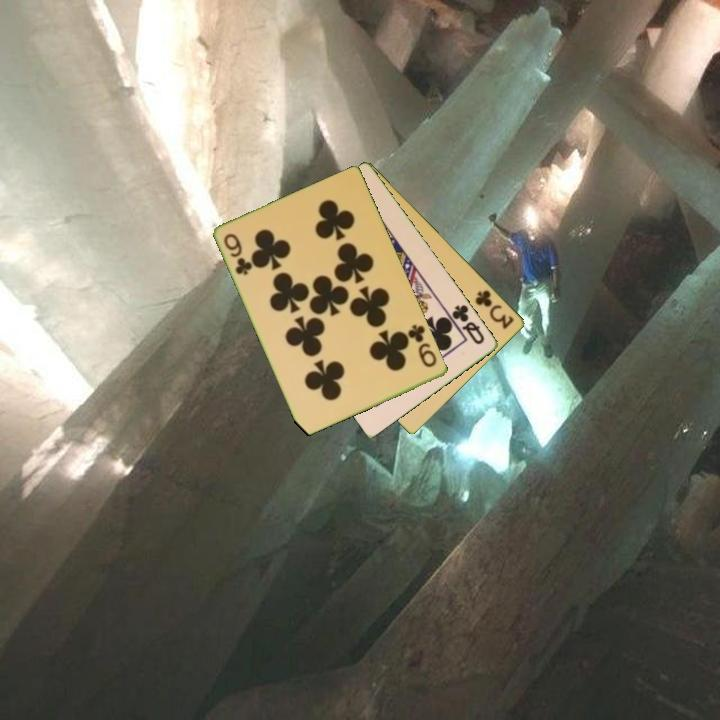3c: (472, 286, 517, 332)
9c: (404, 321, 440, 371), (220, 230, 255, 278)
Qc: (448, 301, 488, 348)
